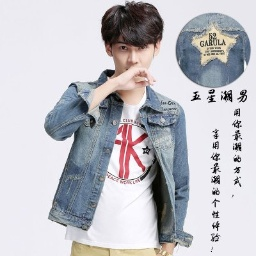face: (104, 1, 165, 81)
